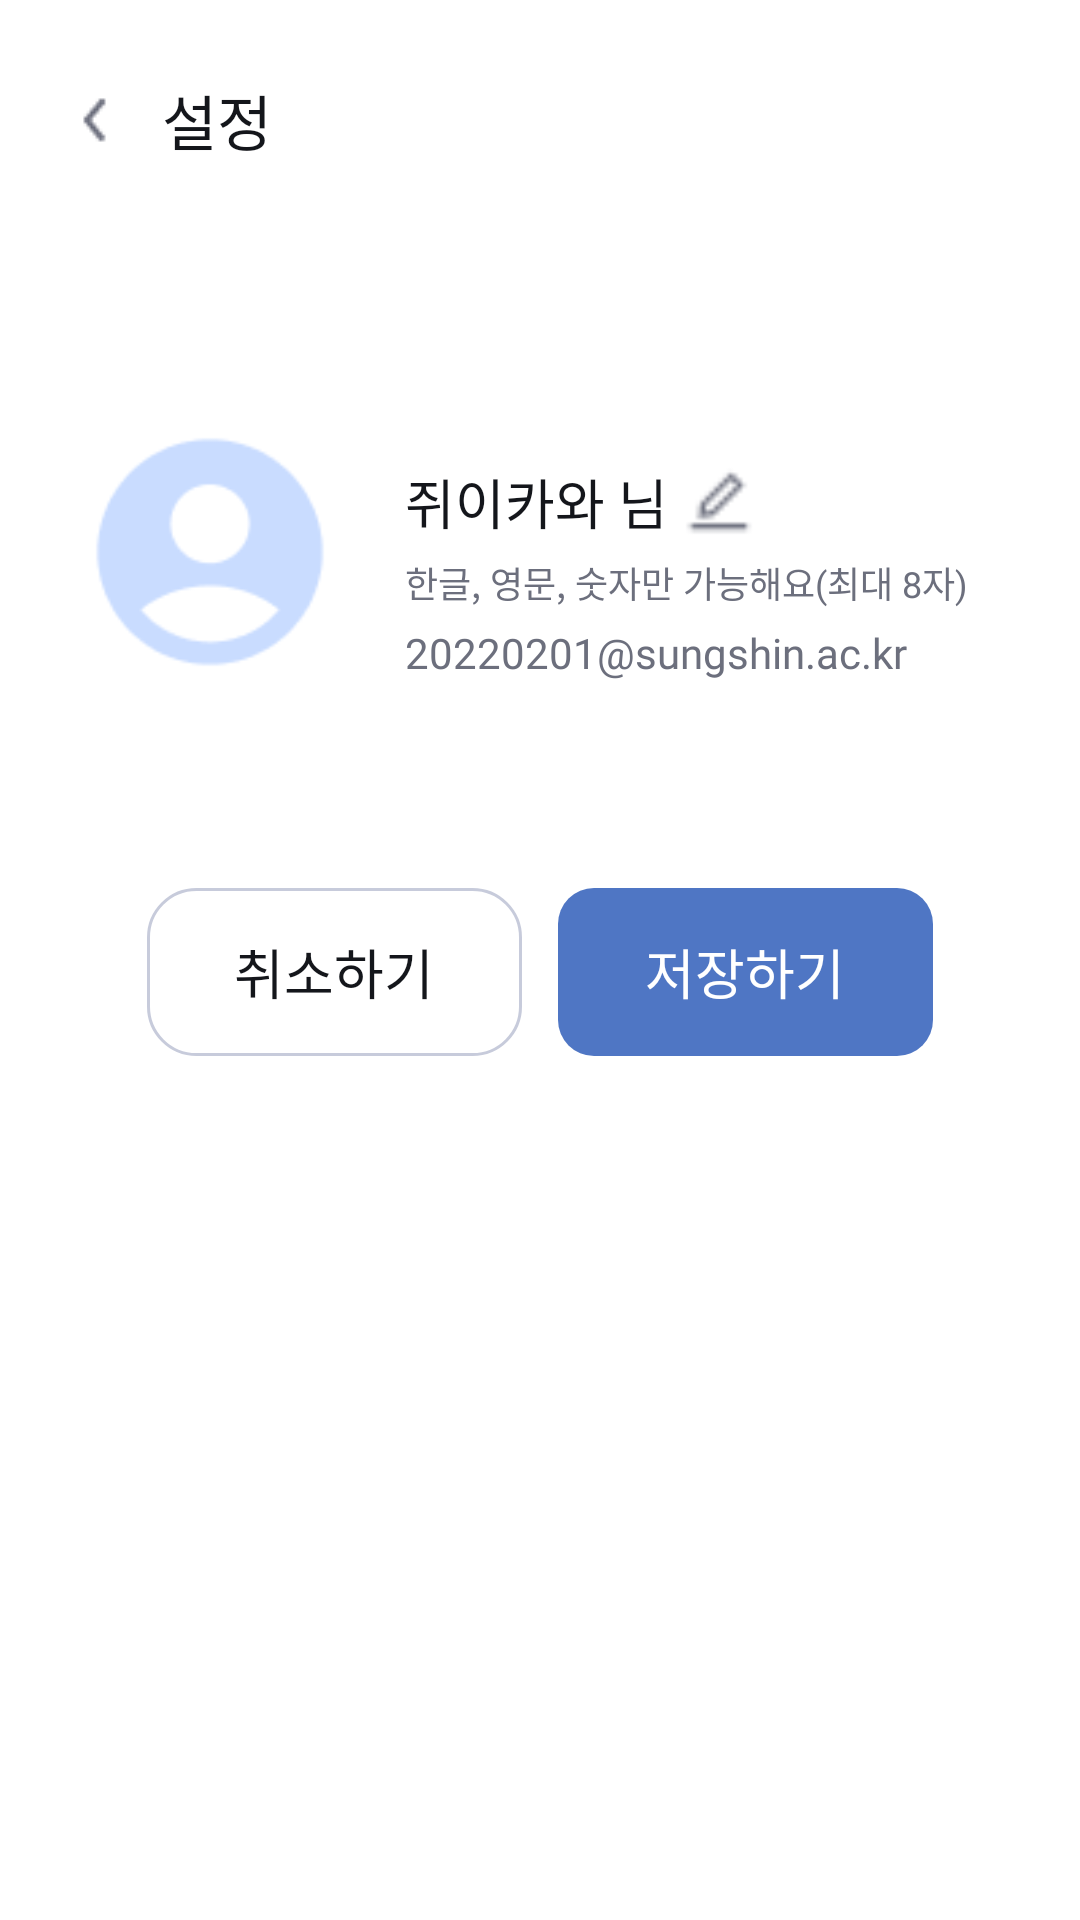

Where icons sit on this 1080px x 1920px app screen, as region(x1, y1, x2, y2):
닉네임 수정: region(688, 472, 749, 532)
프로필 이미지: region(97, 439, 323, 665)
